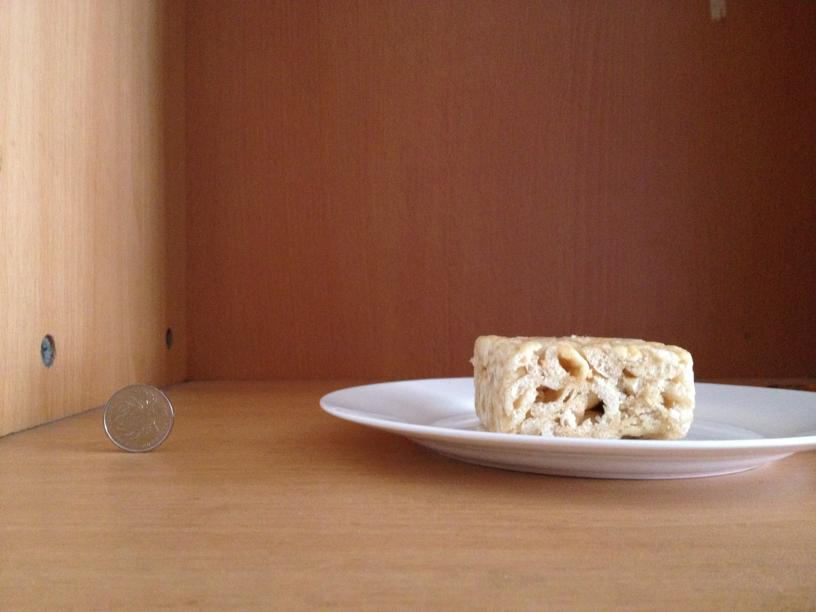coin: (99, 380, 174, 455)
sachima: (469, 333, 695, 443)
